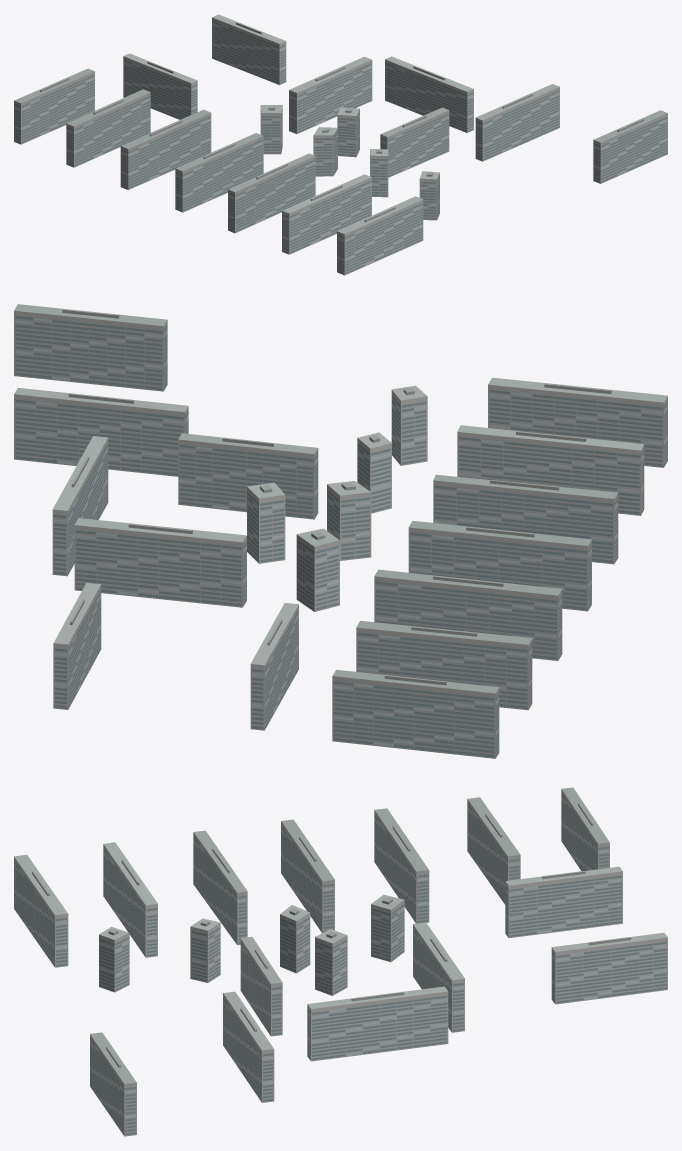
The model's file is apt-a13879102.glb.
The picture shows the model from 3 angles, top to bottom: view 1: azimuth 30°, elevation 25°; view 2: azimuth 150°, elevation 25°; view 3: azimuth 270°, elevation 25°; orthographic projection. The views are drawn at different scales.
Visible parts, largest first — view 1: apt-a13879102; view 2: apt-a13879102; view 3: apt-a13879102.
Part boxes in pixels (box(x1,y1,x2,y2)): apt-a13879102: box(14, 14, 667, 275); apt-a13879102: box(14, 304, 667, 758); apt-a13879102: box(14, 787, 667, 1136).
Bounding box in the file's own units: 555 × 47.81 × 517.
